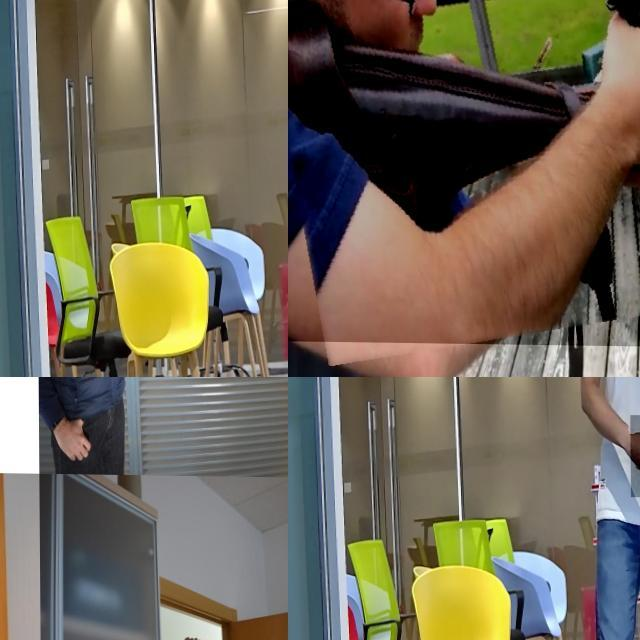-: (0, 377, 74, 534), (186, 377, 210, 399), (184, 632, 226, 640)
gun-knife-thesis - v11 Yolov5 augmented: (288, 0, 640, 348)
